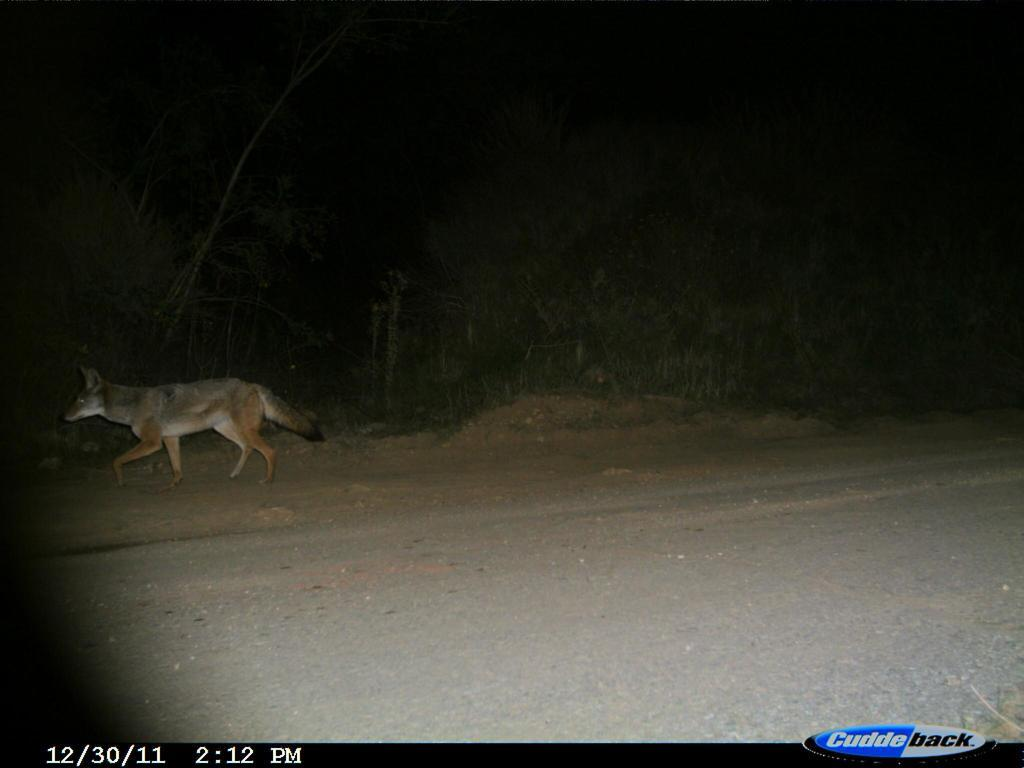coyote: (47, 349, 337, 500)
